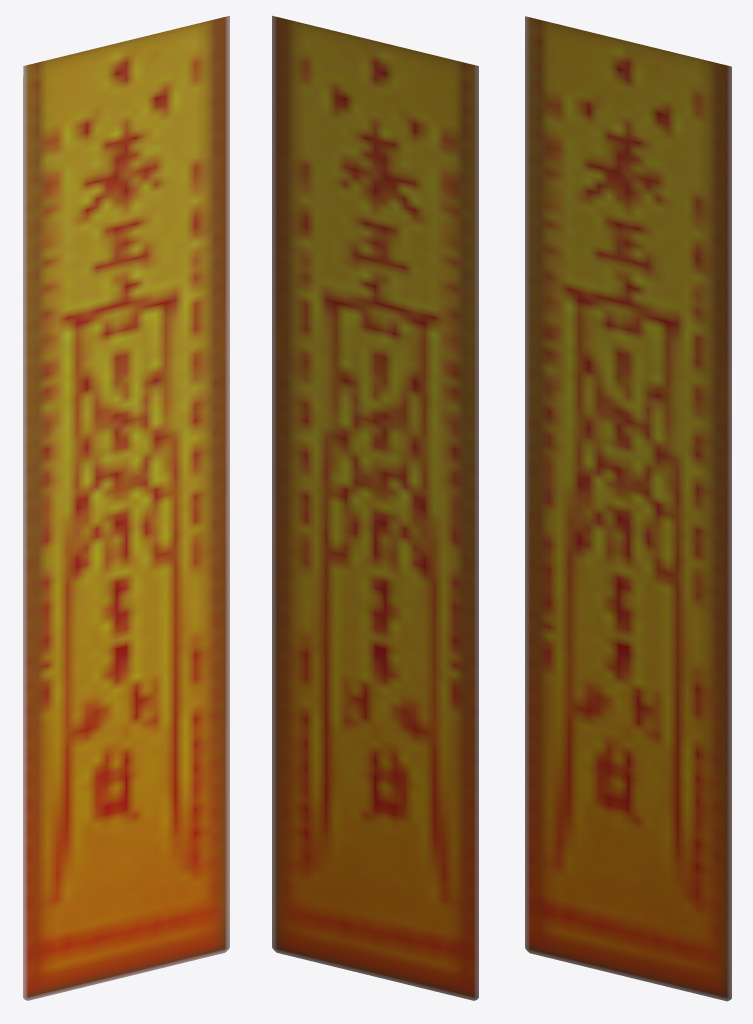
3 views of the same model, side by side, from view 1: azimuth 30°, elevation 25°; view 2: azimuth 150°, elevation 25°; view 3: azimuth 330°, elevation 25° (orthographic).
Visible parts, largest first — view 1: fu; view 2: fu; view 3: fu.
Part boxes in pixels (x1,y1,x2,y2): fu: (23, 15, 229, 1000); fu: (272, 15, 478, 1000); fu: (525, 16, 731, 1001).
Size of the model in its own units: 8.11 by 32.78 by 3.88e-05.
